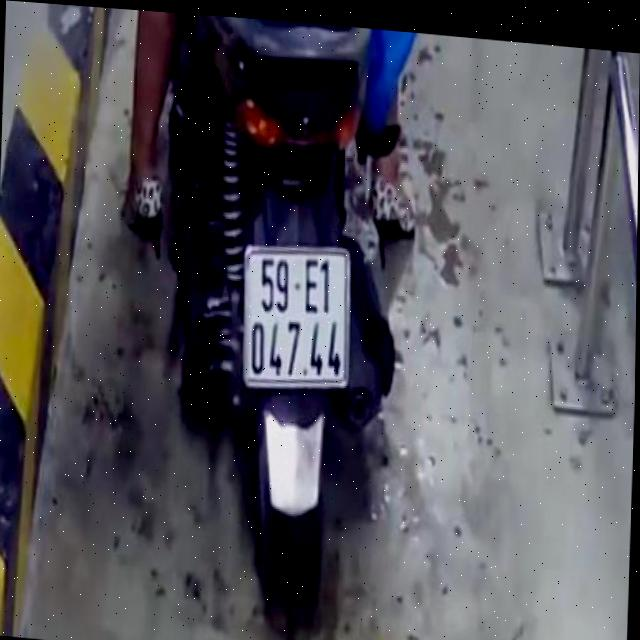motorcycle: (147, 12, 435, 640)
plate: (238, 232, 352, 394)
